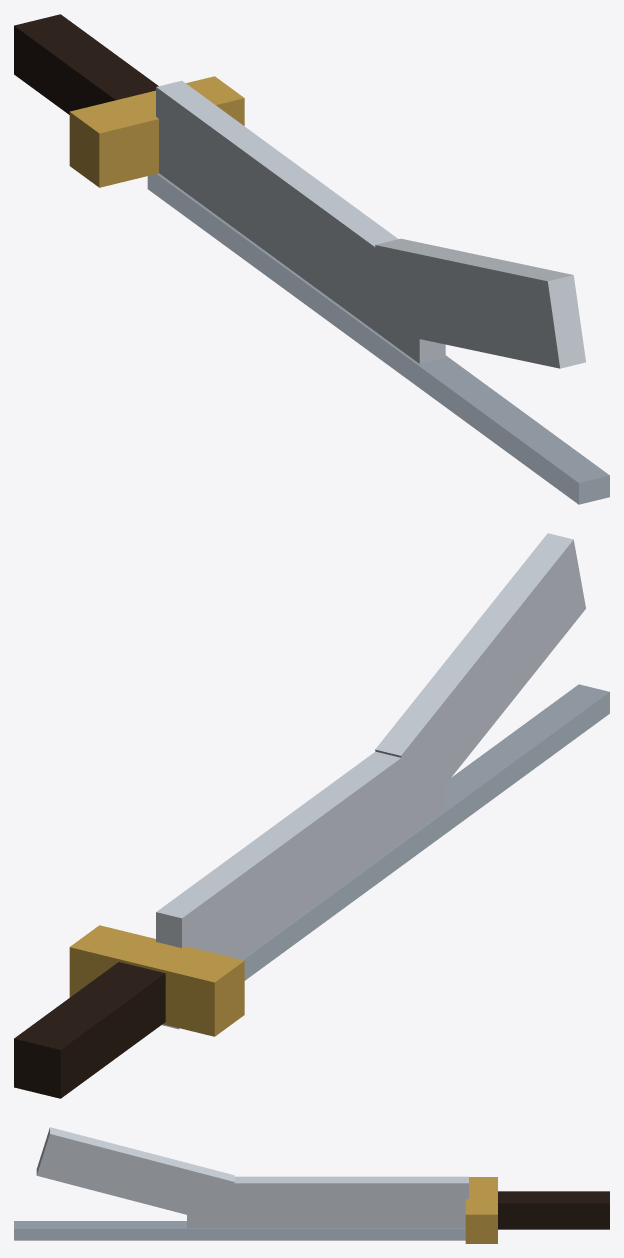
The model's file is BO_SM_EnemyWeapon_Scimitar_v001.glb.
The picture shows the model from 3 angles, top to bottom: view 1: azimuth 30°, elevation 25°; view 2: azimuth 150°, elevation 25°; view 3: azimuth 270°, elevation 25°; orthographic projection. The views are drawn at different scales.
Visible parts, largest first — view 1: body_002, body_003, glow_004, body_000, body_001; view 2: body_002, body_003, glow_004, body_000, body_001; view 3: body_002, body_003, glow_004, body_000, body_001.
Part boxes in pixels (bbox=[...]): body_002: bbox=[156, 80, 445, 363]; body_003: bbox=[375, 238, 585, 368]; glow_004: bbox=[147, 173, 609, 504]; body_000: bbox=[14, 14, 158, 114]; body_001: bbox=[69, 76, 244, 187]; body_002: bbox=[156, 726, 445, 959]; body_003: bbox=[375, 533, 585, 783]; glow_004: bbox=[162, 684, 609, 1029]; body_000: bbox=[14, 962, 165, 1098]; body_001: bbox=[69, 925, 244, 1036]; body_002: bbox=[187, 1176, 468, 1228]; body_003: bbox=[36, 1127, 234, 1223]; glow_004: bbox=[14, 1221, 465, 1240]; body_000: bbox=[498, 1191, 609, 1229]; body_001: bbox=[465, 1177, 497, 1243].
Size of the model in its own units: 0.14 by 0.1825 by 0.93.
